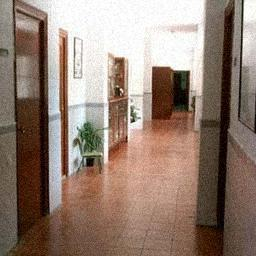Puerta: (15, 16, 46, 237)
